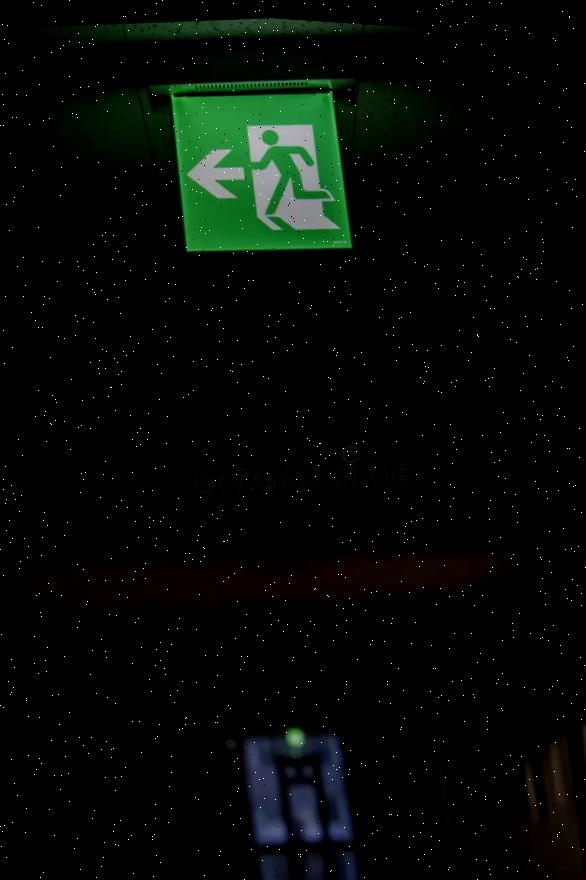emergency_exit: (167, 81, 354, 253)
